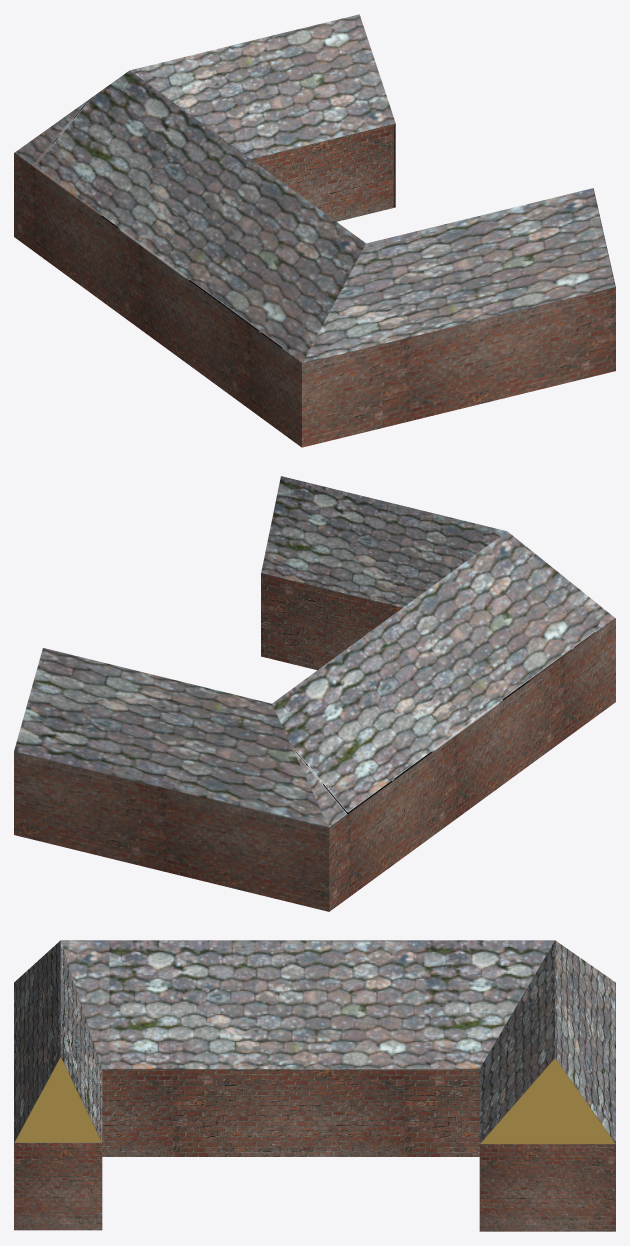
File: house.fbx
3 views of the same model, one above another, from view 1: azimuth 30°, elevation 25°; view 2: azimuth 150°, elevation 25°; view 3: azimuth 270°, elevation 25° (orthographic). The views are drawn at different scales.
Parts seen in each view (by area): view 1: Cube; view 2: Cube; view 3: Cube.
Boxes of the visible parts, x1,y1,x2,y2 form: Cube: (14, 14, 615, 447); Cube: (14, 476, 615, 911); Cube: (14, 940, 615, 1231).
Bounding box in the file's own units: 39.9 × 20.07 × 62.85.
1 material, 1 textured.
